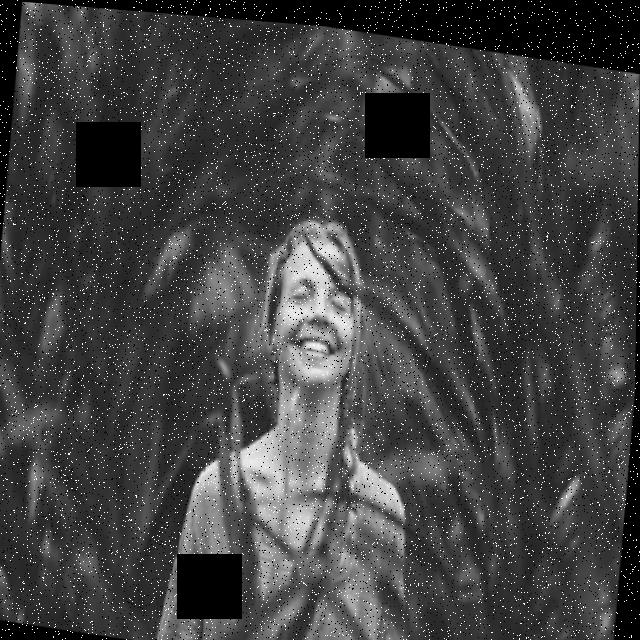happy: (282, 262, 355, 367)
